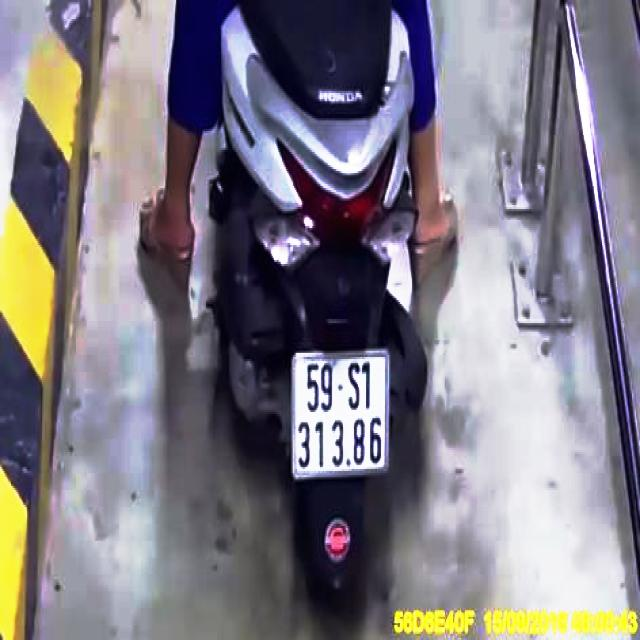license_plate: (296, 353, 389, 475)
